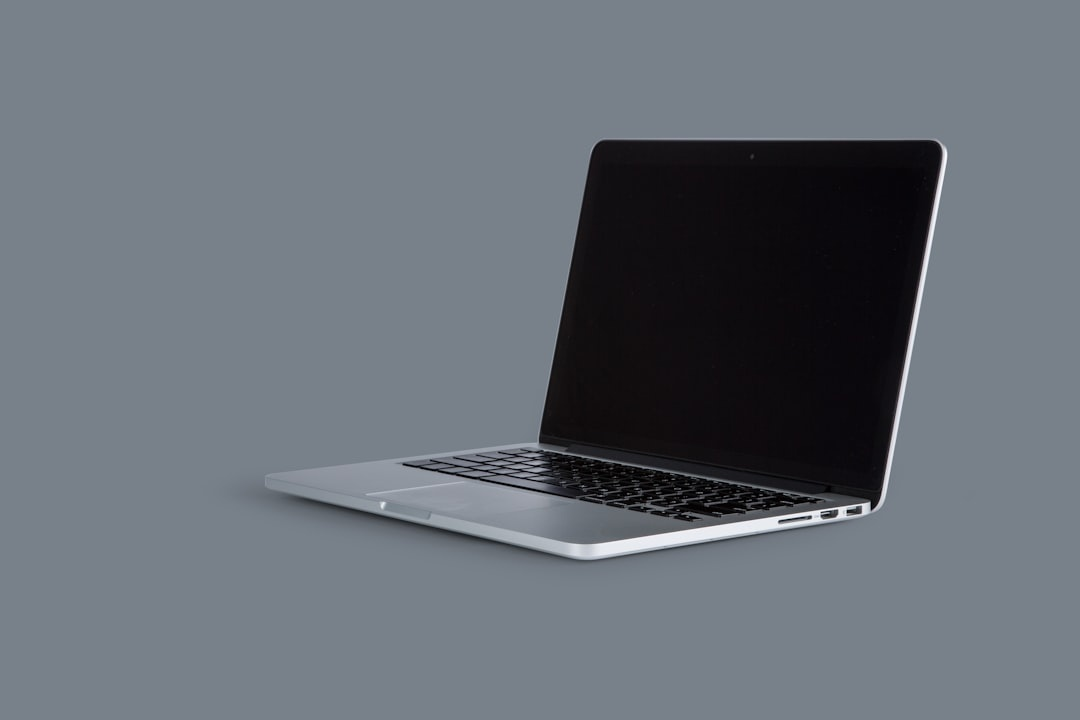laptop: (232, 95, 1034, 580)
